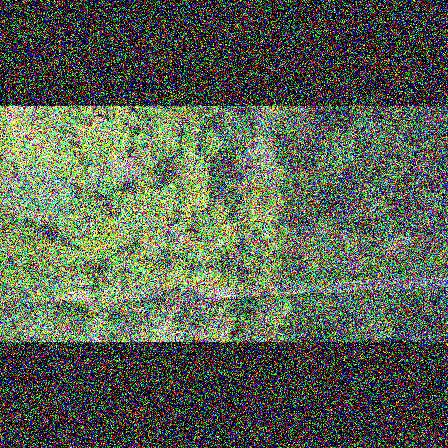Dead: (109, 156, 141, 183)
